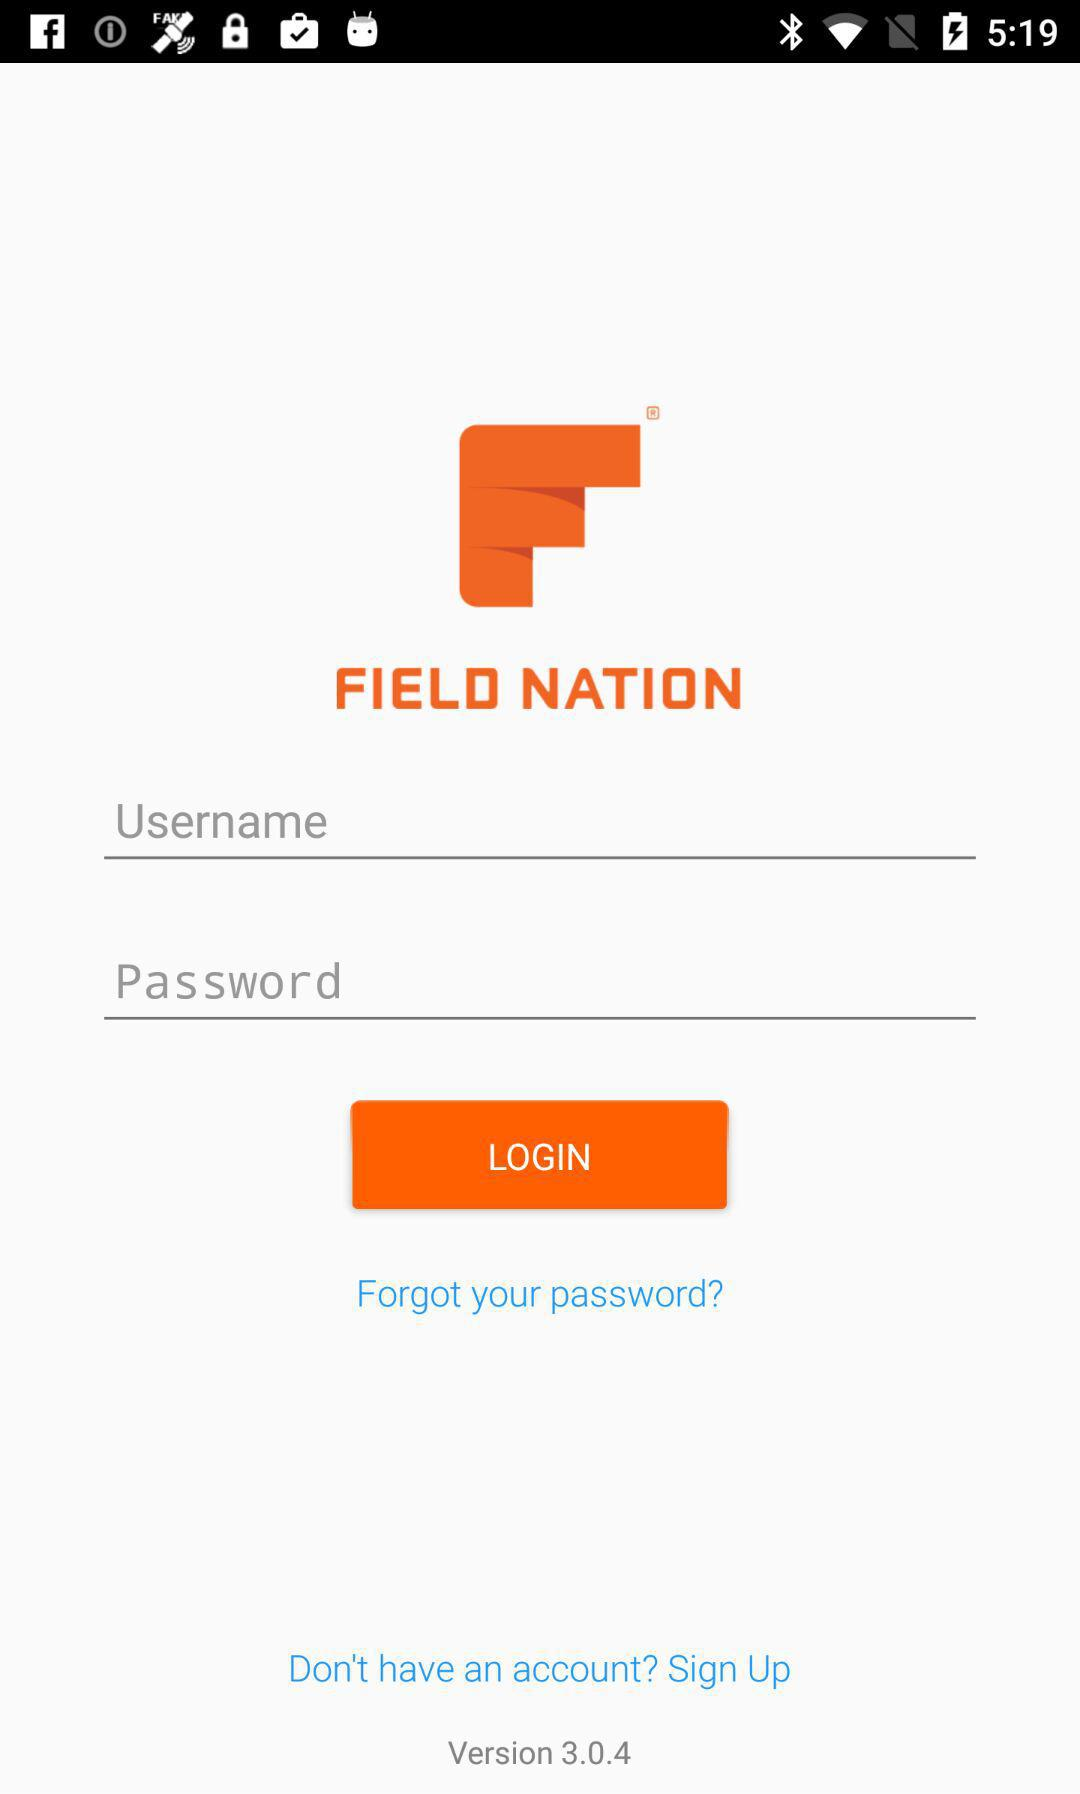EditText: (104, 961, 978, 1021), (104, 803, 978, 861)
Image: (459, 406, 661, 609)
Text: (291, 1653, 790, 1691), (336, 668, 742, 711), (359, 1278, 724, 1316), (118, 964, 340, 1001), (119, 805, 328, 841), (447, 1739, 632, 1766)
TextButton: (352, 1099, 730, 1210)
UpperTaskBar: (1, 1, 1080, 64)
